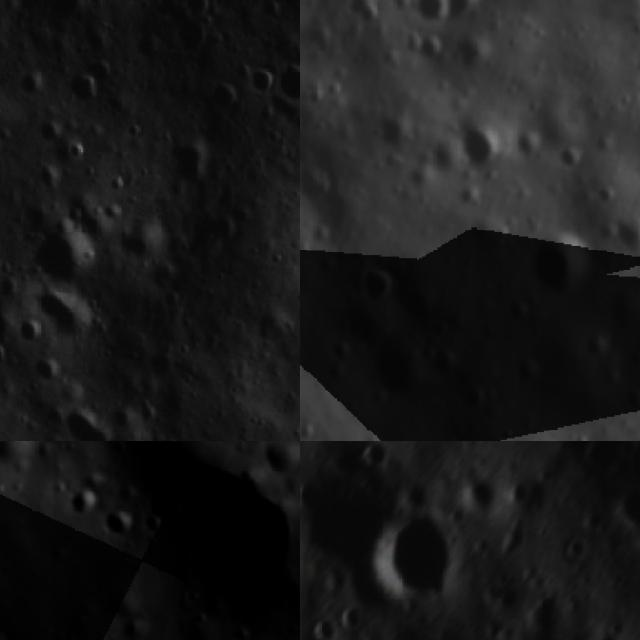crater: (127, 441, 300, 628), (362, 472, 469, 612), (507, 208, 608, 310), (350, 317, 440, 408), (437, 98, 523, 184), (32, 221, 97, 293), (345, 248, 410, 313), (390, 270, 451, 331), (42, 283, 92, 354), (59, 398, 131, 441), (138, 484, 203, 530), (548, 128, 602, 182), (396, 0, 464, 40), (602, 195, 640, 262), (300, 4, 342, 56), (603, 480, 640, 539), (98, 504, 143, 550), (69, 62, 100, 118), (335, 0, 387, 33), (265, 56, 300, 103), (259, 441, 300, 479), (68, 485, 106, 520), (429, 0, 495, 19), (246, 67, 280, 100)
